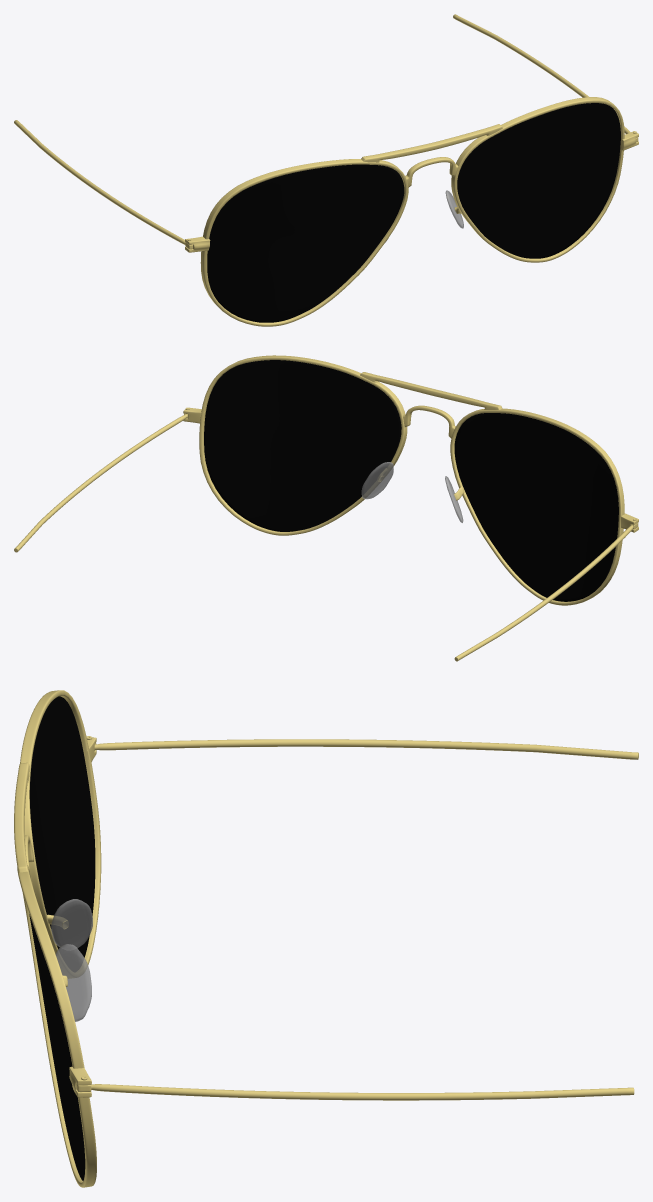
Rendered from AVIATOR_app.glb.
The picture shows the model from 3 angles, top to bottom: view 1: azimuth 30°, elevation 25°; view 2: azimuth 150°, elevation 25°; view 3: azimuth 270°, elevation 25°; orthographic projection. The views are drawn at different scales.
Parts seen in each view (by area): view 1: lentes, armacao; view 2: lentes, armacao, Pontes; view 3: armacao, lentes, Pontes.
Part boxes in pixels (bbox=[...]): lentes: bbox=[207, 103, 620, 322]; armacao: bbox=[14, 14, 638, 326]; lentes: bbox=[204, 360, 618, 601]; armacao: bbox=[14, 355, 638, 661]; Pontes: bbox=[361, 462, 463, 522]; armacao: bbox=[14, 690, 638, 1187]; lentes: bbox=[29, 696, 95, 1180]; Pontes: bbox=[51, 899, 92, 1021].
Size of the model in its own units: 0.1531 by 0.0525 by 0.1134.
Materials: 3 (3 with a texture image).
